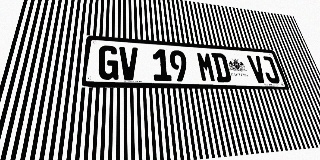1: (152, 49, 172, 81)
9: (169, 50, 189, 82)
D: (211, 53, 232, 82)
G: (97, 45, 119, 80)
J: (259, 56, 281, 83)
M: (196, 52, 217, 82)
V: (119, 46, 139, 80), (247, 55, 268, 83)
